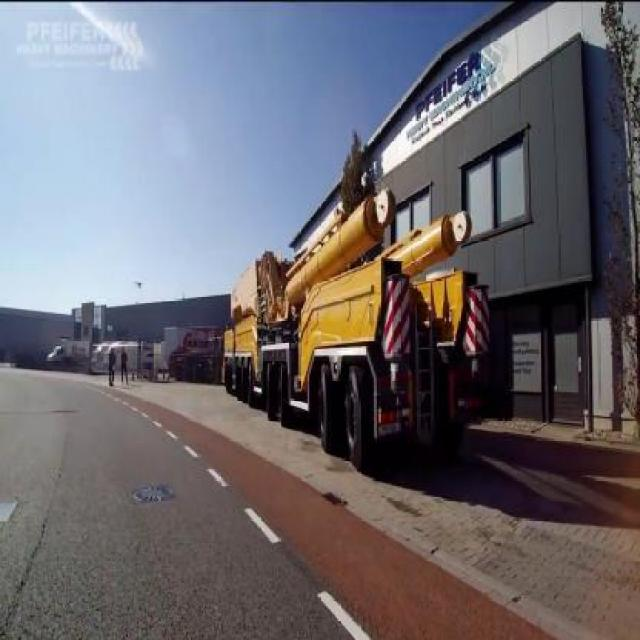Mobile Crane: (225, 194, 486, 458)
